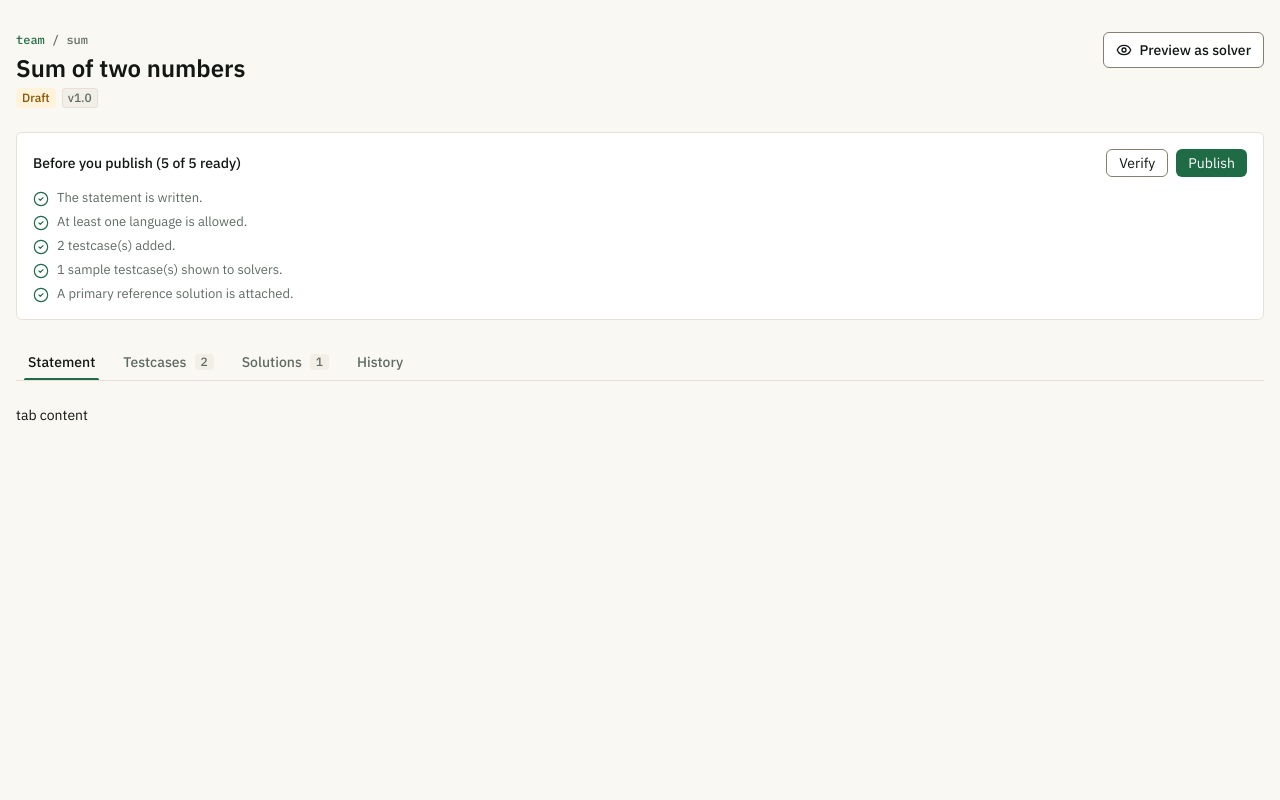
Test case: publishing › shows the checklist, and publishes only after a confirmation that says what freezes
Check: the heading "Before you publish (5 of 5 ready)" is shown, box [33,153,241,173]
Click the button "Publish" at [1212, 163], box [1176,149,1247,177]
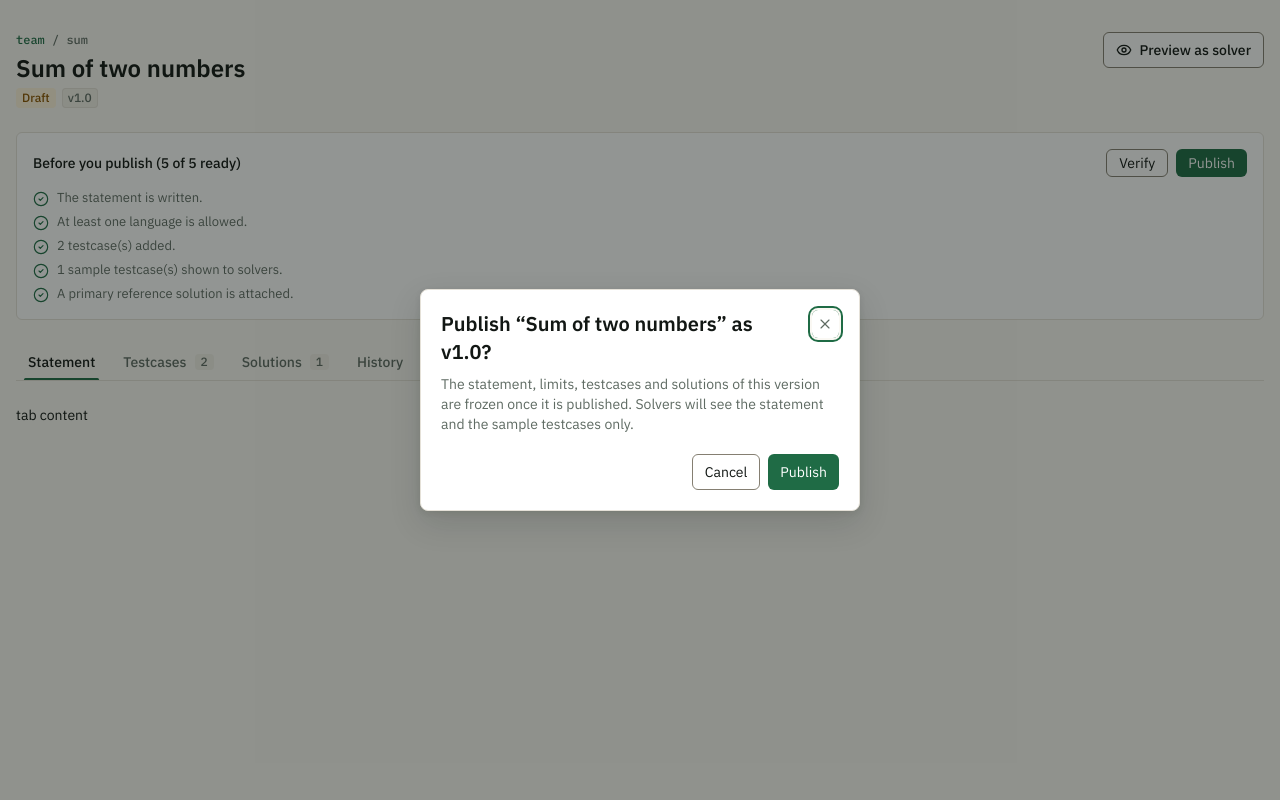
Check: the text "frozen once it is published" is shown, box [441,375,824,433]
Click the button "Publish" at [804, 472], box [768,454,839,490]
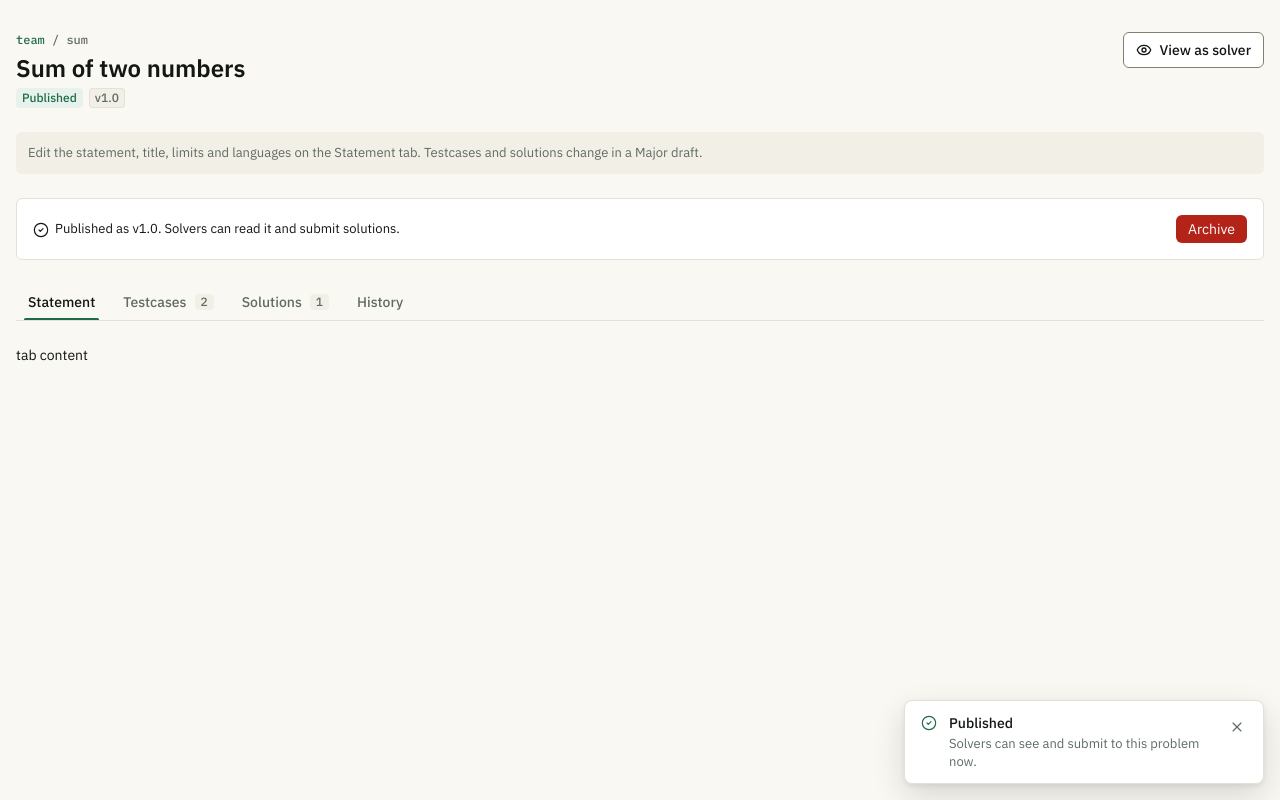
Check: the text "Published as v1.0. Solvers can read it and submit solutions." is shown, box [33,220,400,238]
Check: the text "Published" below "Sum of two numbers" is shown, box [22,90,77,105]
